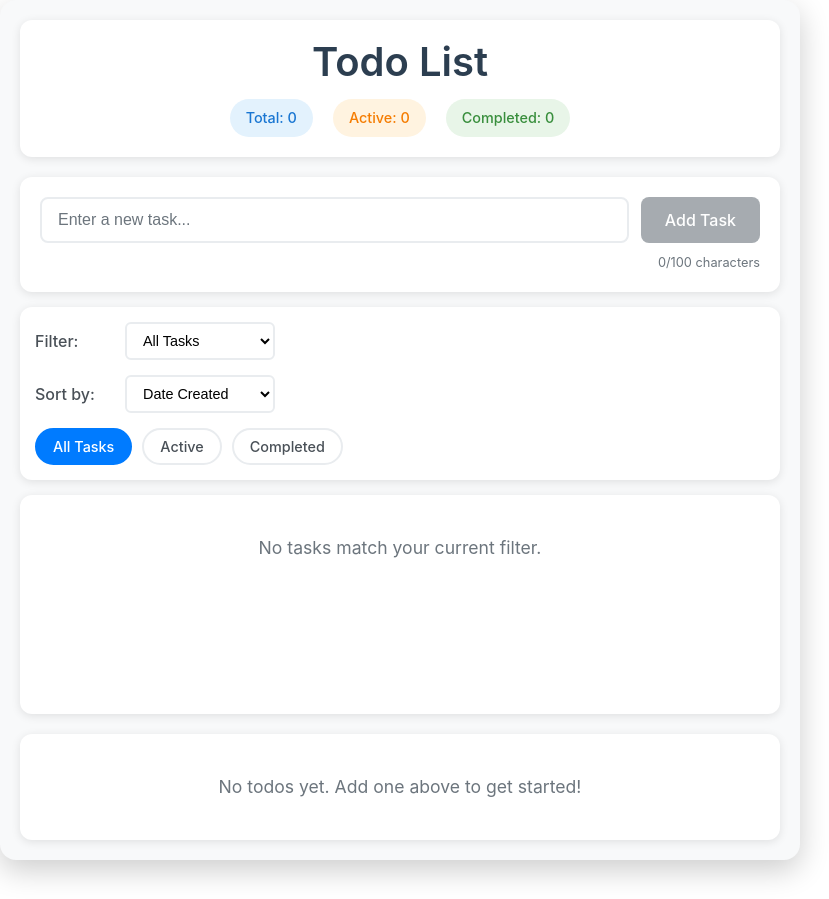
Test: TodoApp › toggles todo completion
Type "Test todo" into the field with placeholder "Enter a new task..." at (334, 220), box [40,197,629,243]
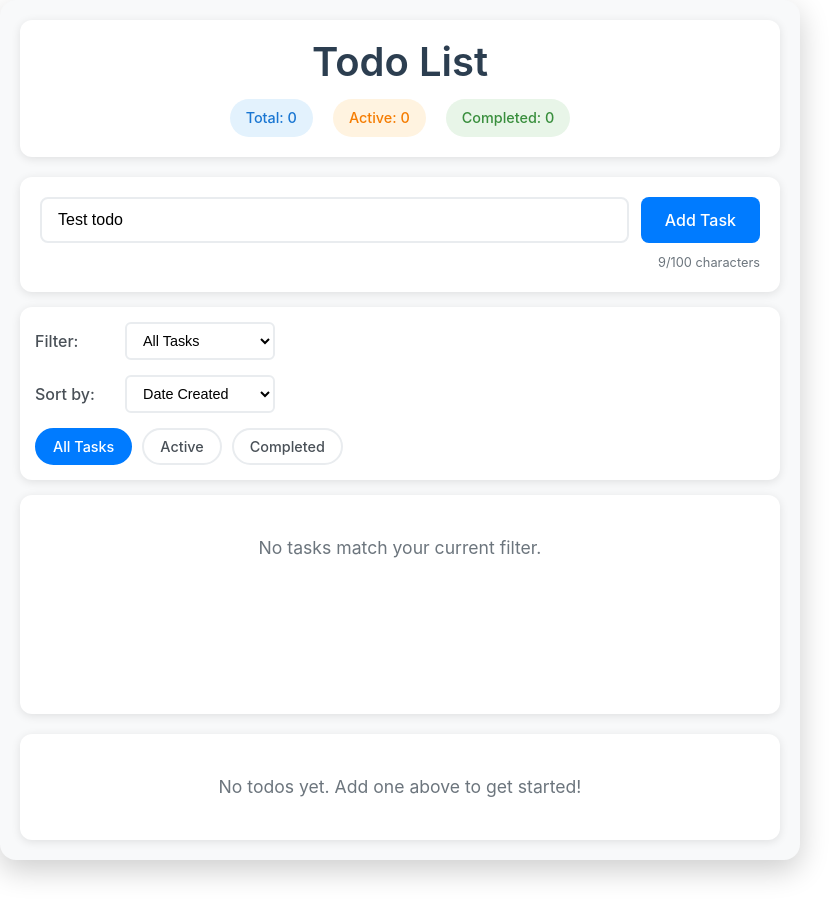
Click the button "Add Task" at (700, 220), box [641,197,760,243]
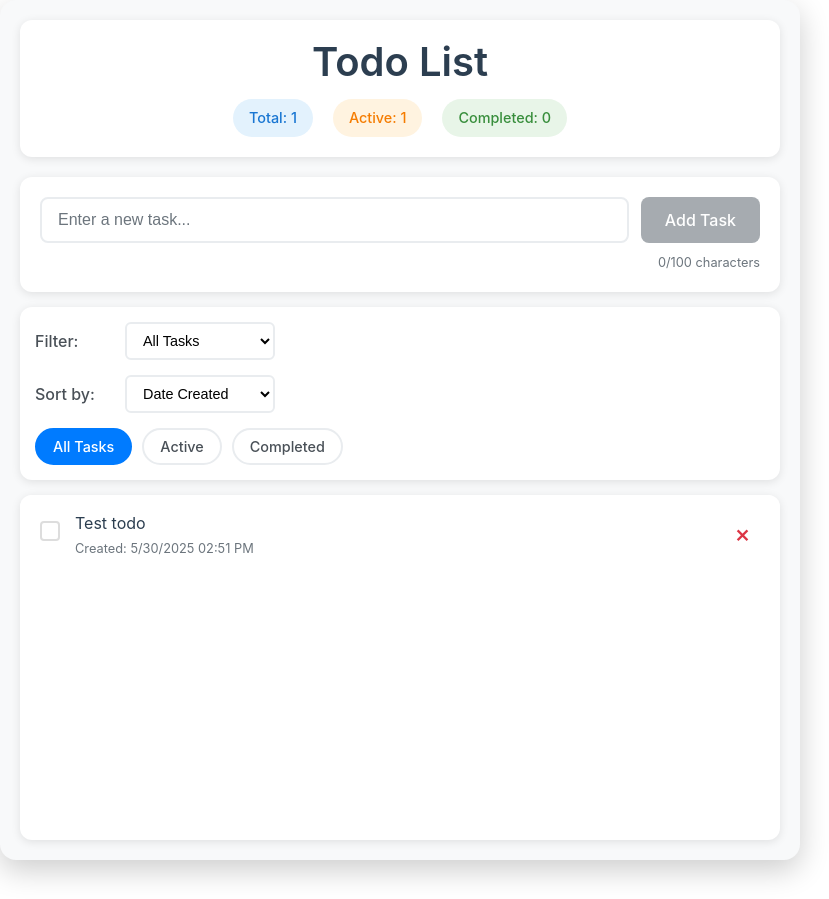
// Toggle completion
Click the checkbox at (50, 534), box [40,521,60,547]
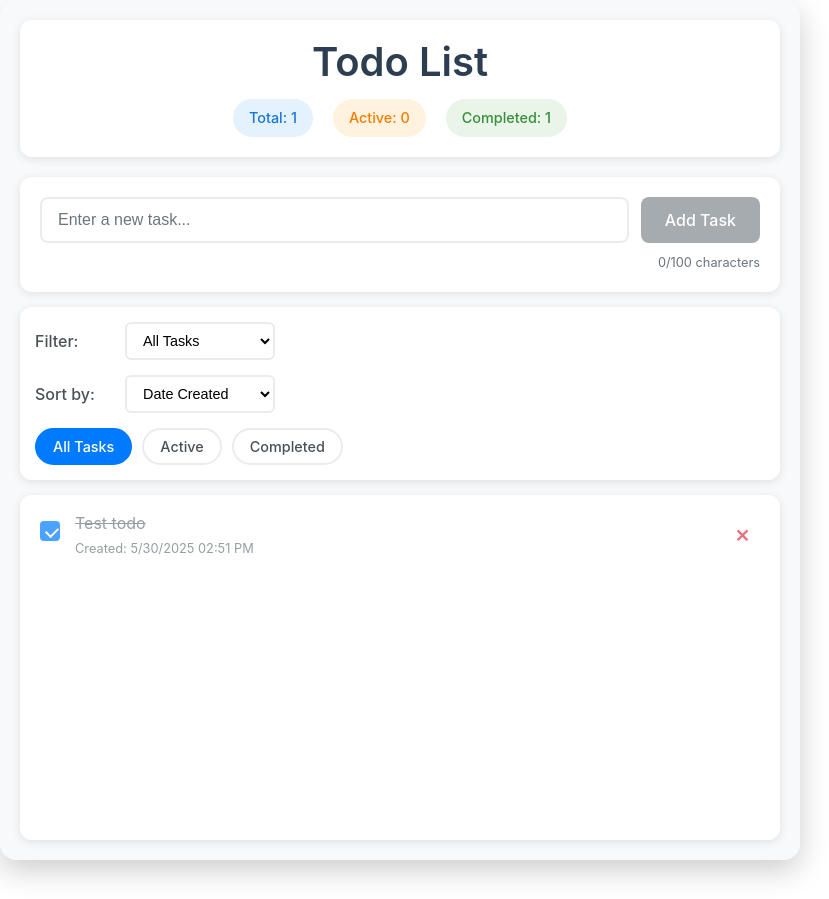
Expected: the text "Active: 0" is shown, [333,99,426,137]
Expected: the text "Completed: 1" is shown, [446,99,567,137]
